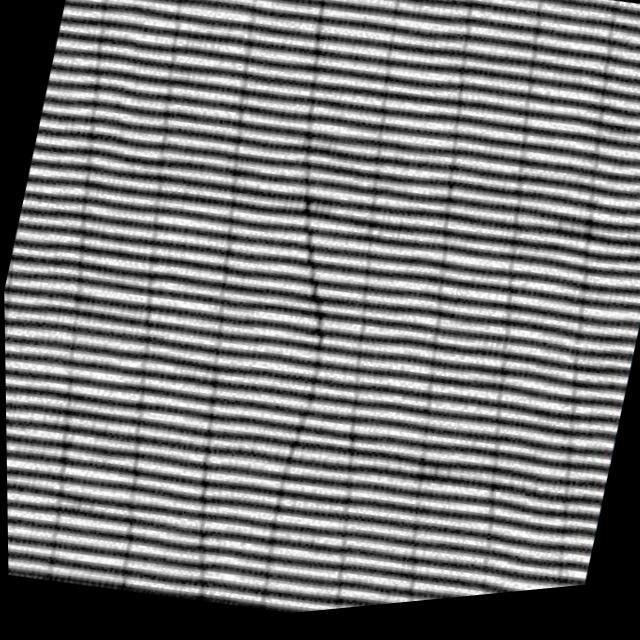Stitch: (247, 147, 400, 473)
